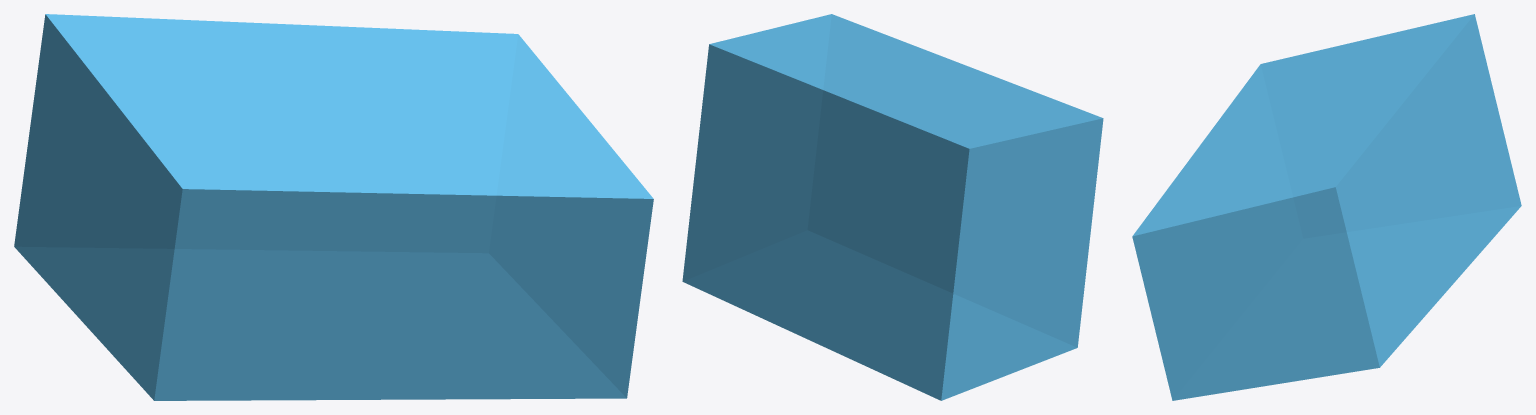
The model's file is Event_421556567_HErechit_46.fbx.
3 views of the same model, side by side, from view 1: azimuth 30°, elevation 25°; view 2: azimuth 150°, elevation 25°; view 3: azimuth 270°, elevation 25° (orthographic). The views are drawn at different scales.
Visible parts, largest first — view 1: Model; view 2: Model; view 3: Model.
Boxes of the visible parts, box(x1,y1,x2,y2) form: Model: box(14, 14, 653, 400); Model: box(682, 14, 1103, 400); Model: box(1132, 14, 1521, 400).
Size of the model in its own units: 0.6909 by 0.5648 by 0.8049.
